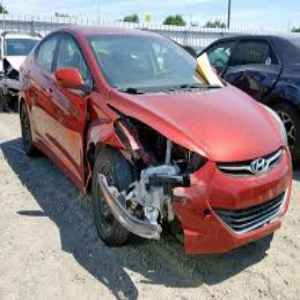bumper: (135, 160, 213, 256)
